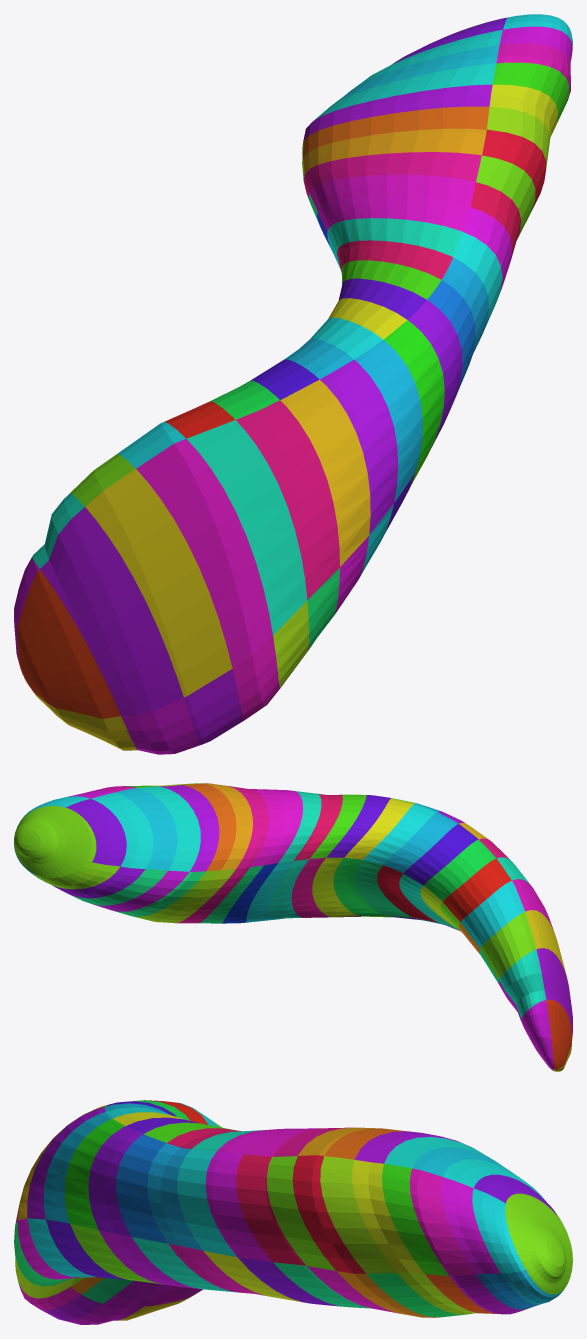
The model's file is pancreas-male-vu-v1.0.glb.
3 renders of one model, top to bottom at view 1: azimuth 30°, elevation 25°; view 2: azimuth 150°, elevation 25°; view 3: azimuth 270°, elevation 25°, orthographic. The views are drawn at different scales.
Parts seen in each view (by area): view 1: world; view 2: world; view 3: world.
Part boxes in pixels (x1,y1,x2,y2): world: [14, 14, 572, 754]; world: [14, 783, 572, 1071]; world: [14, 1100, 572, 1324].
Size of the model in its own units: 0.1068 by 0.0621 by 0.0824.
